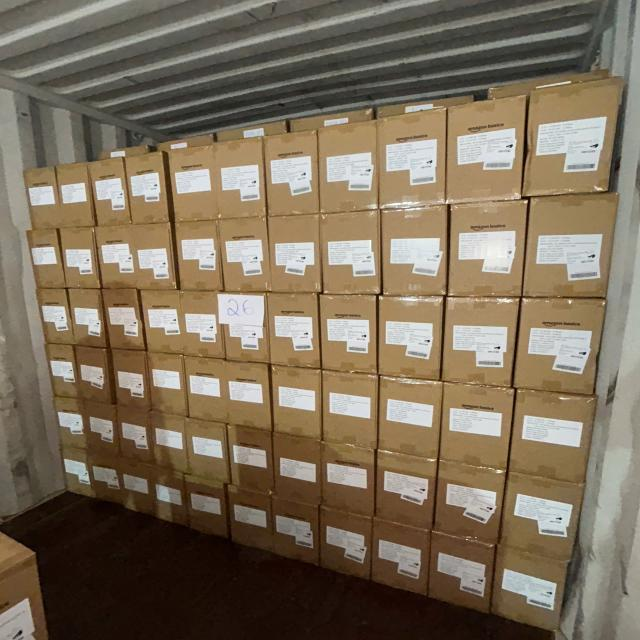Carton: (528, 78, 620, 197), (524, 195, 618, 300), (516, 298, 607, 397), (448, 95, 527, 204), (513, 387, 597, 482), (449, 198, 526, 296), (503, 469, 586, 558), (446, 299, 520, 390), (378, 107, 443, 208), (492, 547, 566, 633), (439, 382, 510, 471), (382, 205, 450, 294), (435, 460, 503, 548), (428, 532, 492, 616), (376, 297, 440, 381), (320, 124, 378, 216), (376, 376, 439, 459), (321, 211, 381, 296), (376, 450, 437, 533), (322, 297, 380, 377), (371, 520, 428, 600), (266, 133, 319, 218), (218, 134, 270, 220), (325, 372, 380, 452), (268, 215, 321, 295), (324, 444, 378, 520), (171, 140, 221, 222), (320, 506, 373, 583), (270, 365, 322, 441), (269, 295, 321, 371), (272, 434, 322, 508), (219, 218, 267, 295), (176, 221, 224, 294), (130, 222, 180, 292), (271, 497, 320, 567), (220, 294, 267, 366), (225, 427, 272, 498), (225, 358, 270, 431), (180, 291, 226, 361), (226, 486, 271, 556), (147, 460, 192, 530), (127, 154, 170, 226), (186, 418, 231, 486), (185, 357, 228, 426), (116, 451, 159, 520), (96, 222, 140, 289), (185, 475, 230, 540), (21, 164, 65, 230), (80, 396, 124, 460), (104, 291, 146, 355), (150, 352, 190, 418), (141, 289, 181, 354), (58, 441, 100, 502), (90, 161, 126, 230), (85, 446, 125, 508), (112, 348, 152, 408), (58, 166, 94, 232), (150, 409, 188, 471), (76, 347, 116, 405), (62, 226, 99, 288), (52, 392, 90, 452), (69, 288, 106, 349), (28, 232, 66, 291), (38, 291, 75, 347), (118, 410, 154, 464), (47, 344, 81, 399)
